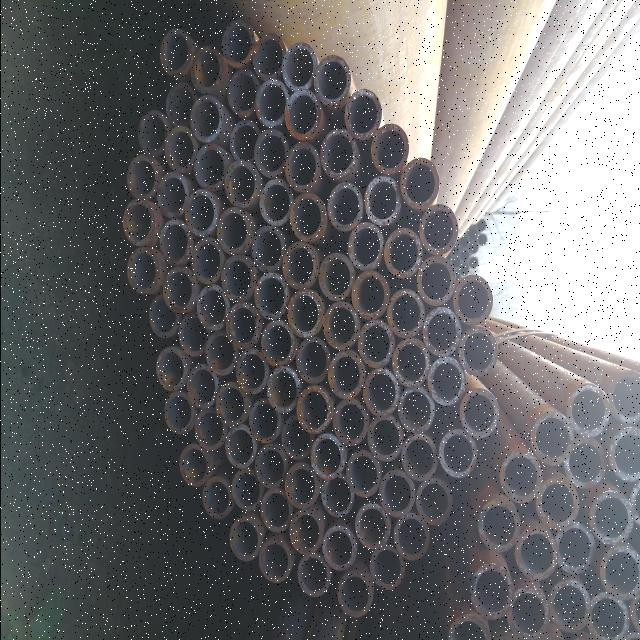pipe: (467, 562, 514, 622), (474, 499, 520, 555), (588, 490, 633, 546), (547, 579, 592, 635), (528, 412, 574, 466), (504, 584, 550, 638), (564, 384, 611, 436), (535, 478, 580, 532), (597, 545, 639, 602), (498, 450, 542, 504), (563, 438, 607, 490), (324, 348, 366, 402), (398, 157, 440, 211), (584, 590, 630, 639), (515, 528, 557, 581), (417, 203, 459, 256), (451, 275, 494, 326), (554, 522, 596, 574), (458, 389, 500, 441), (424, 354, 466, 406), (368, 122, 410, 174), (342, 89, 383, 142), (283, 89, 323, 143), (456, 327, 497, 379), (422, 306, 462, 358), (382, 227, 422, 279), (321, 300, 361, 352), (362, 175, 402, 227), (288, 192, 328, 244), (362, 366, 401, 419), (319, 127, 357, 181), (312, 55, 352, 106), (416, 255, 454, 308), (437, 429, 478, 478), (413, 478, 453, 528), (390, 338, 430, 388), (350, 270, 390, 320), (326, 182, 366, 232), (259, 318, 297, 370), (392, 512, 431, 562), (386, 288, 425, 338), (222, 160, 261, 210), (218, 254, 257, 304), (220, 19, 258, 70), (294, 334, 331, 386), (608, 366, 640, 426), (378, 468, 416, 518), (356, 319, 394, 369), (346, 220, 384, 270), (286, 288, 324, 338), (192, 404, 230, 454), (280, 40, 318, 90), (284, 144, 322, 194), (124, 246, 162, 296), (281, 240, 318, 291), (368, 539, 404, 591), (399, 434, 438, 482), (282, 462, 319, 512), (254, 79, 291, 129), (158, 27, 194, 78), (608, 426, 640, 483), (162, 125, 200, 173), (318, 252, 354, 302), (250, 32, 286, 82), (120, 198, 156, 248), (353, 502, 390, 550), (331, 398, 368, 446), (188, 46, 225, 94), (365, 416, 403, 462), (321, 524, 357, 572), (345, 449, 381, 497), (309, 433, 345, 481), (296, 552, 332, 600), (264, 366, 300, 414), (258, 179, 294, 227), (253, 129, 289, 177), (161, 266, 197, 314), (182, 188, 218, 236), (188, 96, 224, 144), (397, 388, 435, 433), (203, 329, 240, 375), (158, 220, 195, 266), (254, 442, 288, 492), (225, 300, 259, 350), (225, 69, 259, 119), (215, 381, 251, 428), (296, 386, 331, 434), (250, 226, 285, 274), (254, 272, 288, 321), (215, 209, 252, 254), (336, 572, 372, 618), (288, 510, 324, 556), (224, 422, 258, 470), (136, 110, 170, 158), (246, 398, 282, 443), (192, 144, 228, 189), (190, 236, 223, 285), (258, 488, 293, 534), (148, 293, 182, 340), (235, 348, 268, 396), (228, 516, 260, 565), (281, 414, 315, 460), (230, 466, 264, 512), (154, 346, 188, 392), (125, 154, 159, 200), (154, 172, 188, 218), (187, 361, 220, 408), (178, 310, 210, 357), (320, 474, 354, 518), (164, 82, 198, 126), (163, 392, 196, 436), (201, 477, 233, 522), (258, 540, 290, 584), (178, 443, 210, 487), (227, 121, 261, 162), (443, 613, 491, 639), (458, 235, 472, 249), (448, 255, 462, 268), (475, 232, 488, 246), (448, 242, 461, 255), (458, 263, 470, 277), (474, 218, 486, 232), (466, 228, 478, 241), (466, 242, 478, 254), (468, 256, 478, 270)
